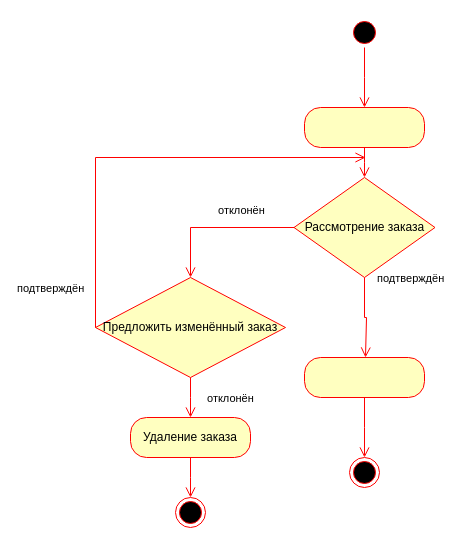
The diagram is 461 pixels wide and 545 high, and some of its shapes have lost their labels. The shapes that lost their labels are listed below. From the top down, each one's box as (x1, y1, x2, y2) in pixels, then its label:
(304, 106, 424, 148): Создание заказа
(304, 356, 424, 398): Обработка заказа
